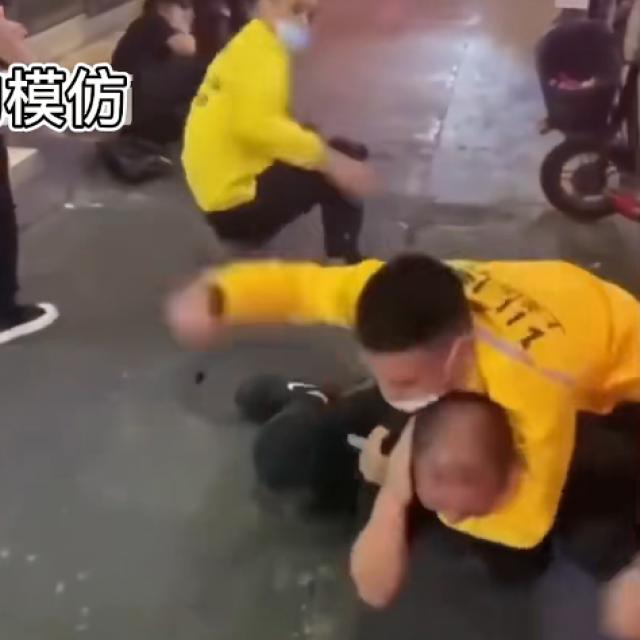fight: (209, 247, 640, 614)
nofight: (166, 0, 378, 272)
